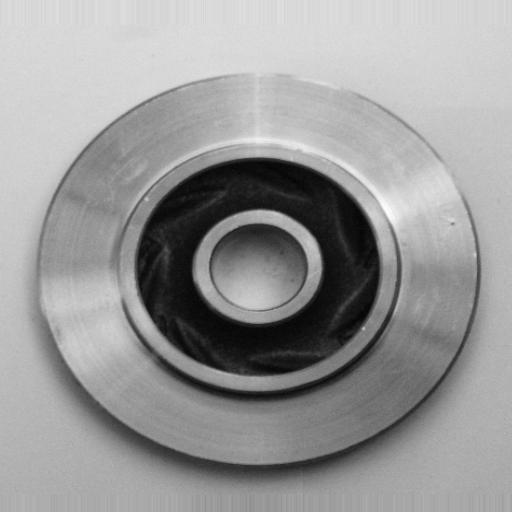unpolished_casting: (35, 69, 481, 468)
